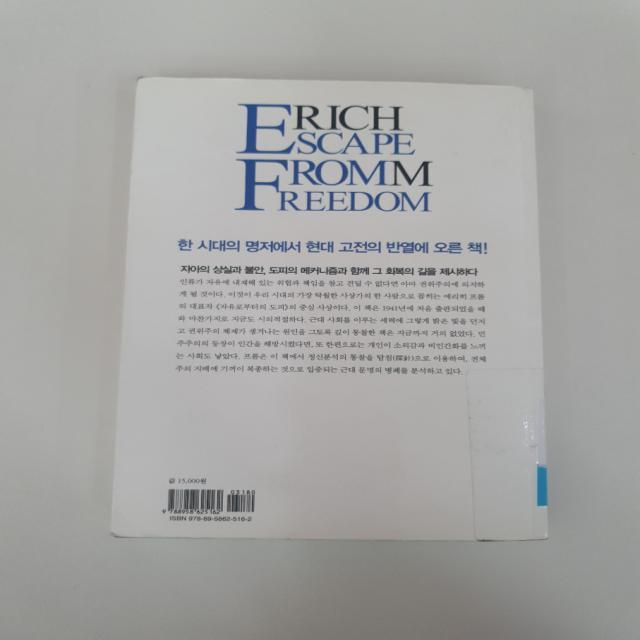Wornout: (282, 531, 404, 546), (106, 526, 225, 541), (130, 73, 200, 88), (508, 82, 539, 96)
